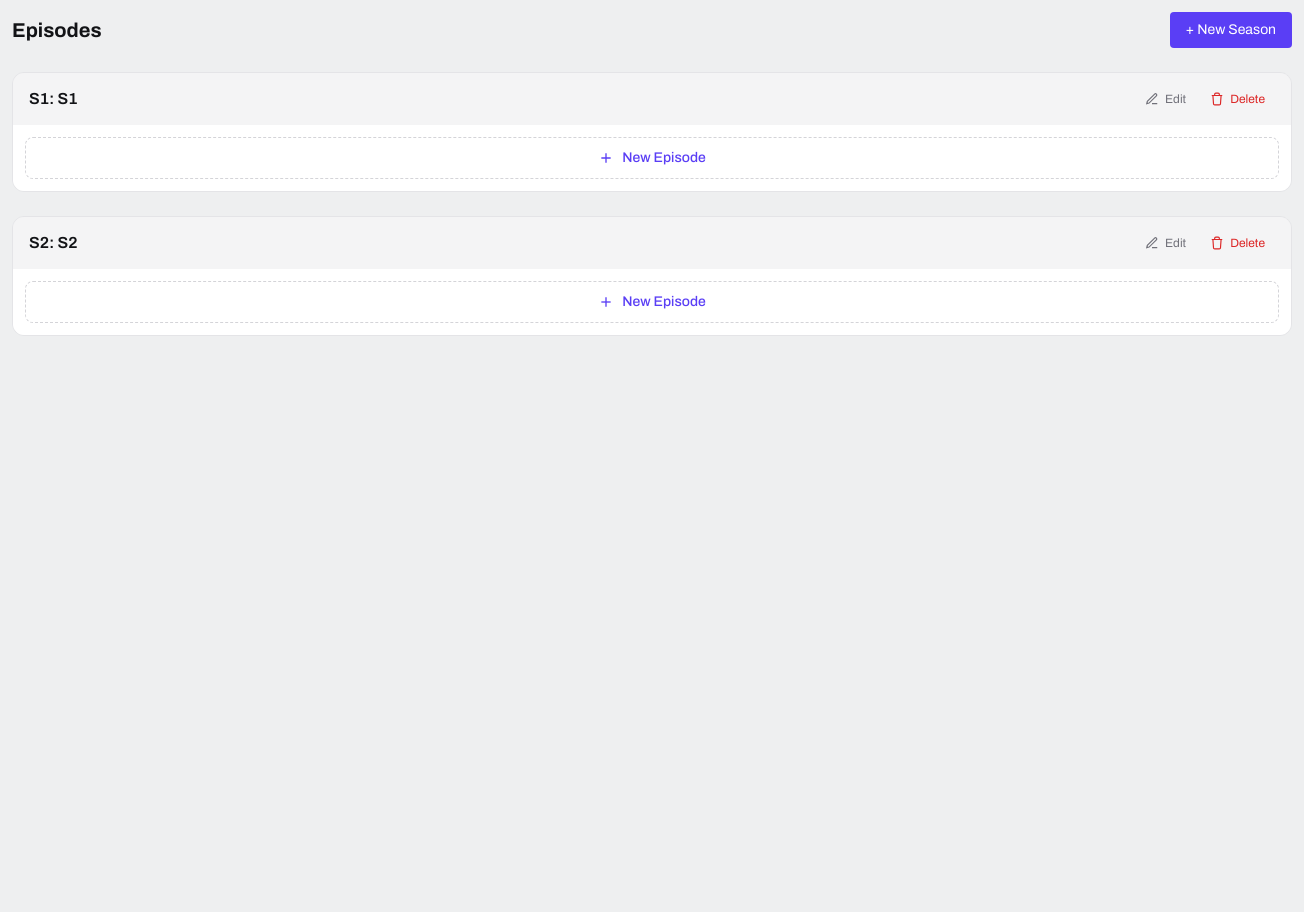
season editing flow › submitting the season form saves the season and refreshes the list
The width and height of the screenshot is (1304, 912).
Expected: the text "S1: S1" is shown, [29,87,77,111]
Click the 1st button "Edit": (1166, 99) [1135,85,1196,113]
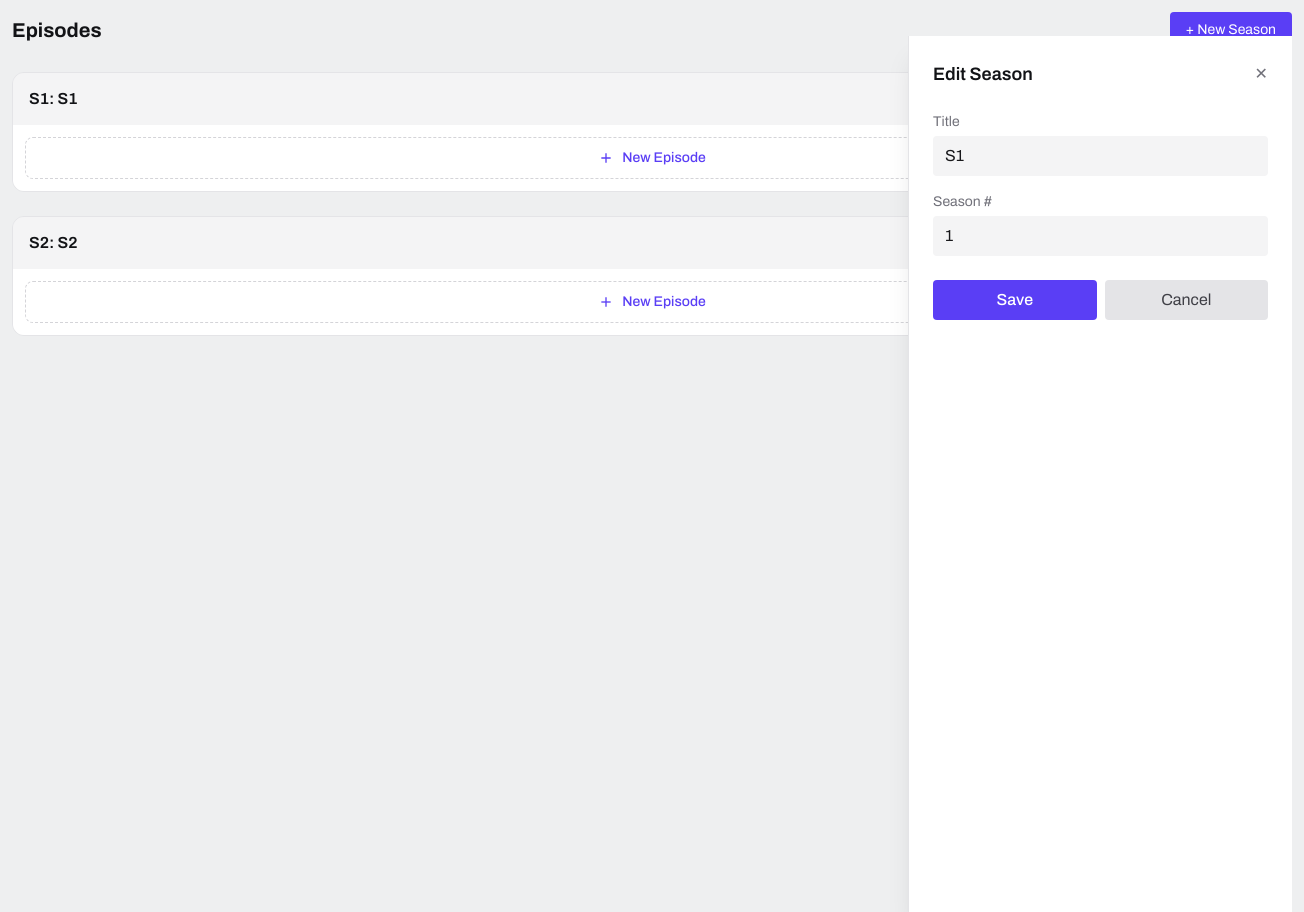
Replace the text in the field labelled "Title" with "Renamed Season": (1100, 156) [933,136,1268,176]
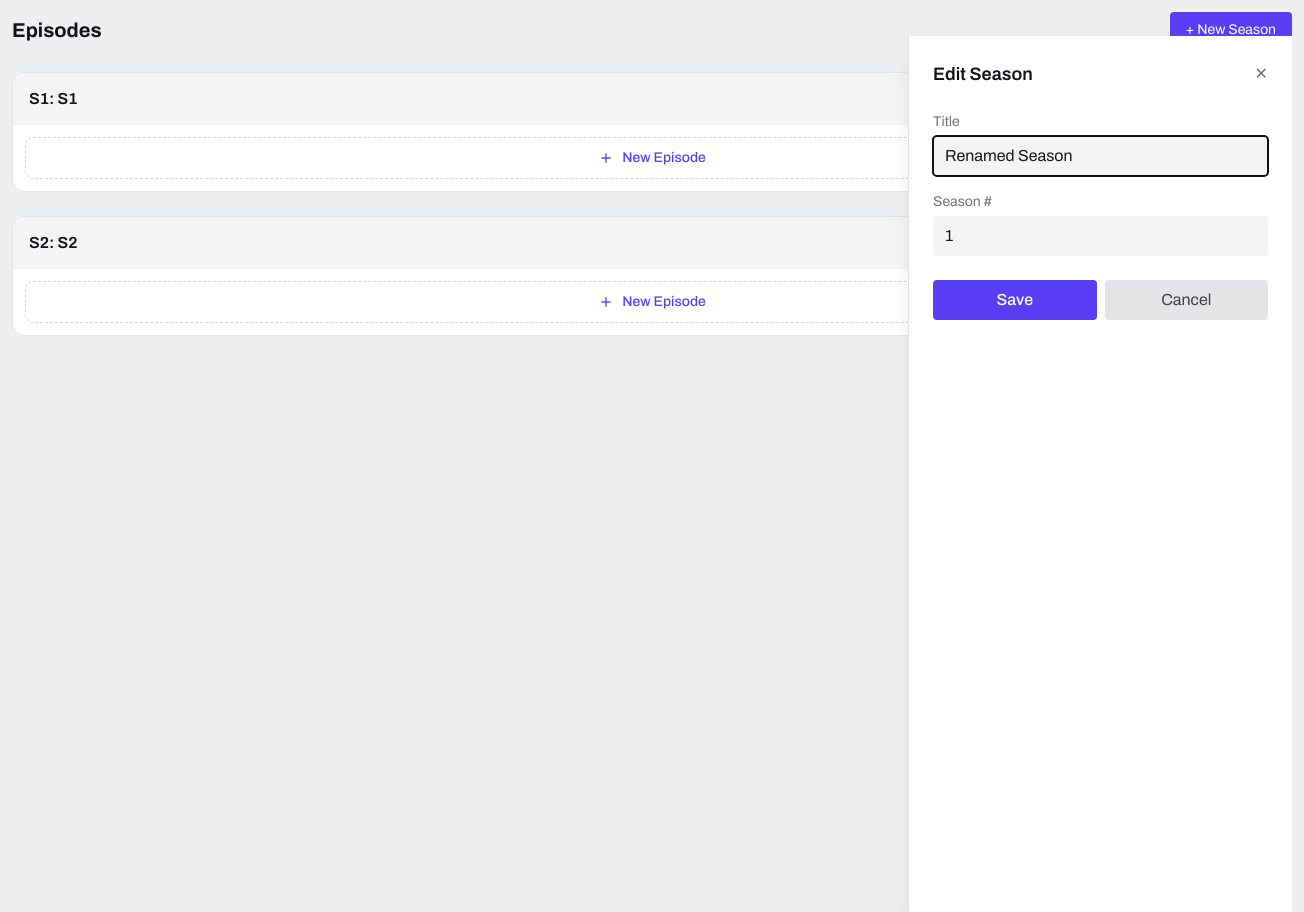
Click the button "Save": (1015, 300) [933,280,1096,320]
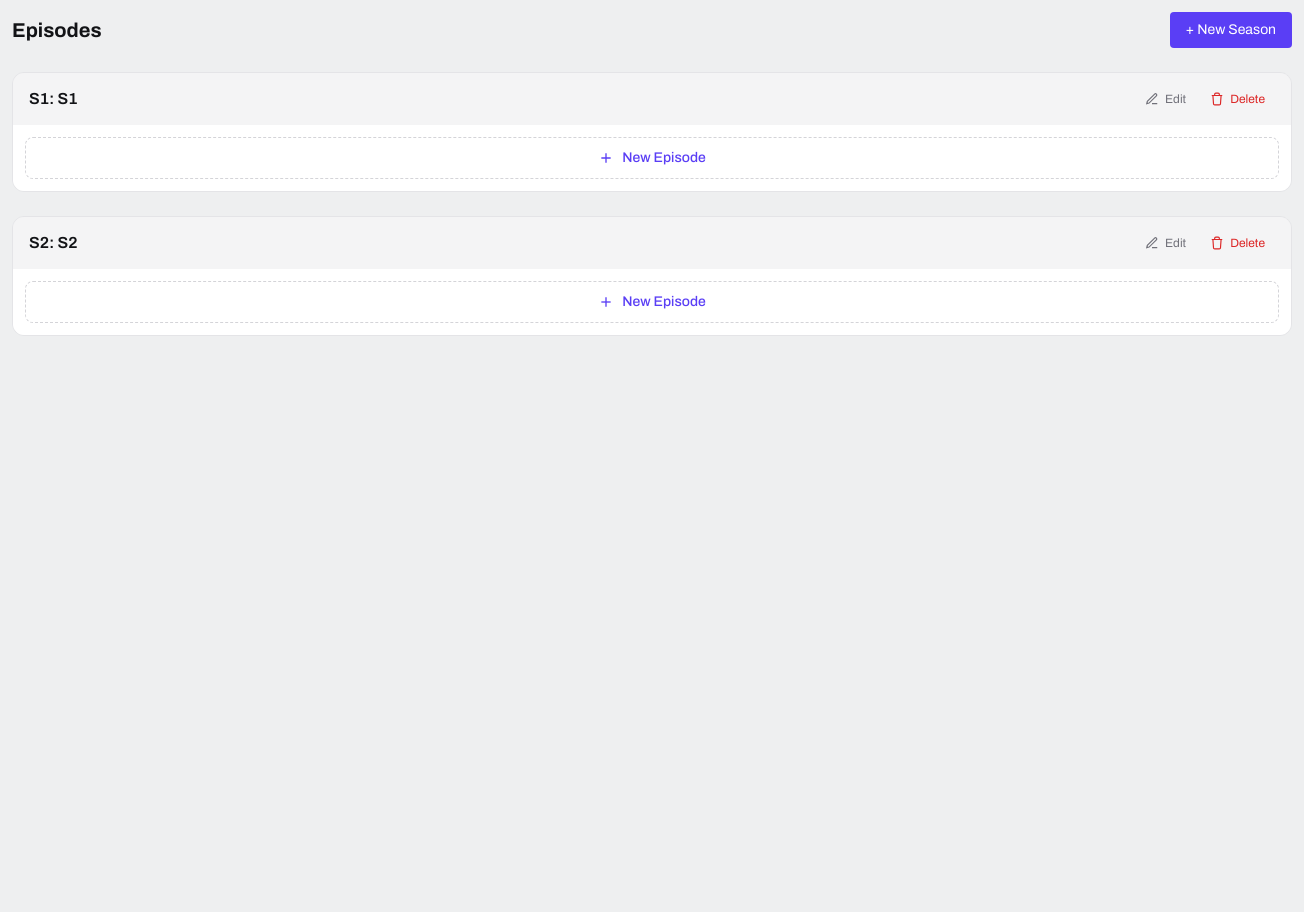
Expected: the heading "Edit Season" is gone
